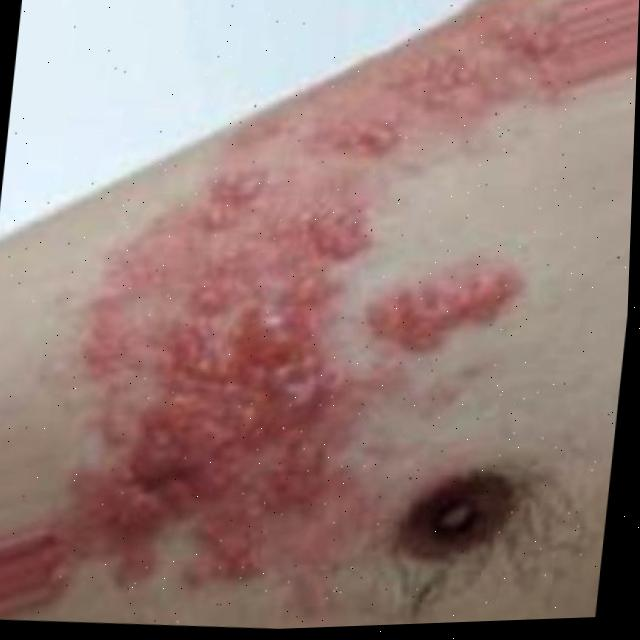Shingles: (75, 0, 559, 623)
